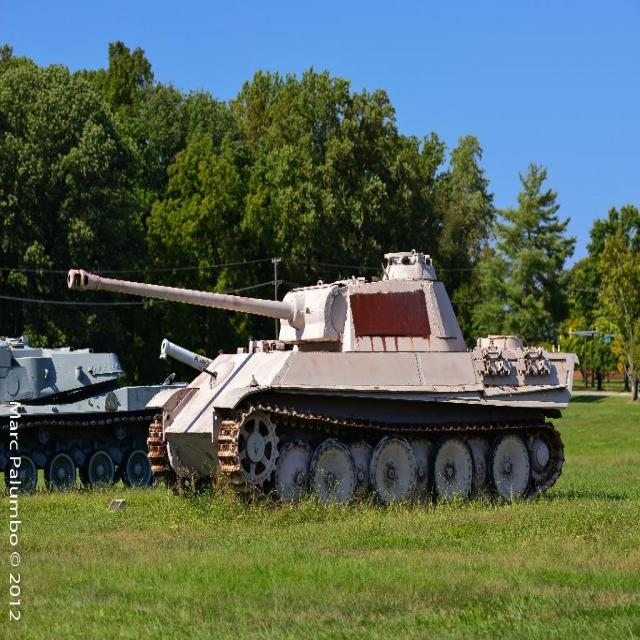tank: (68, 243, 581, 510), (0, 333, 190, 492), (159, 337, 285, 359)
